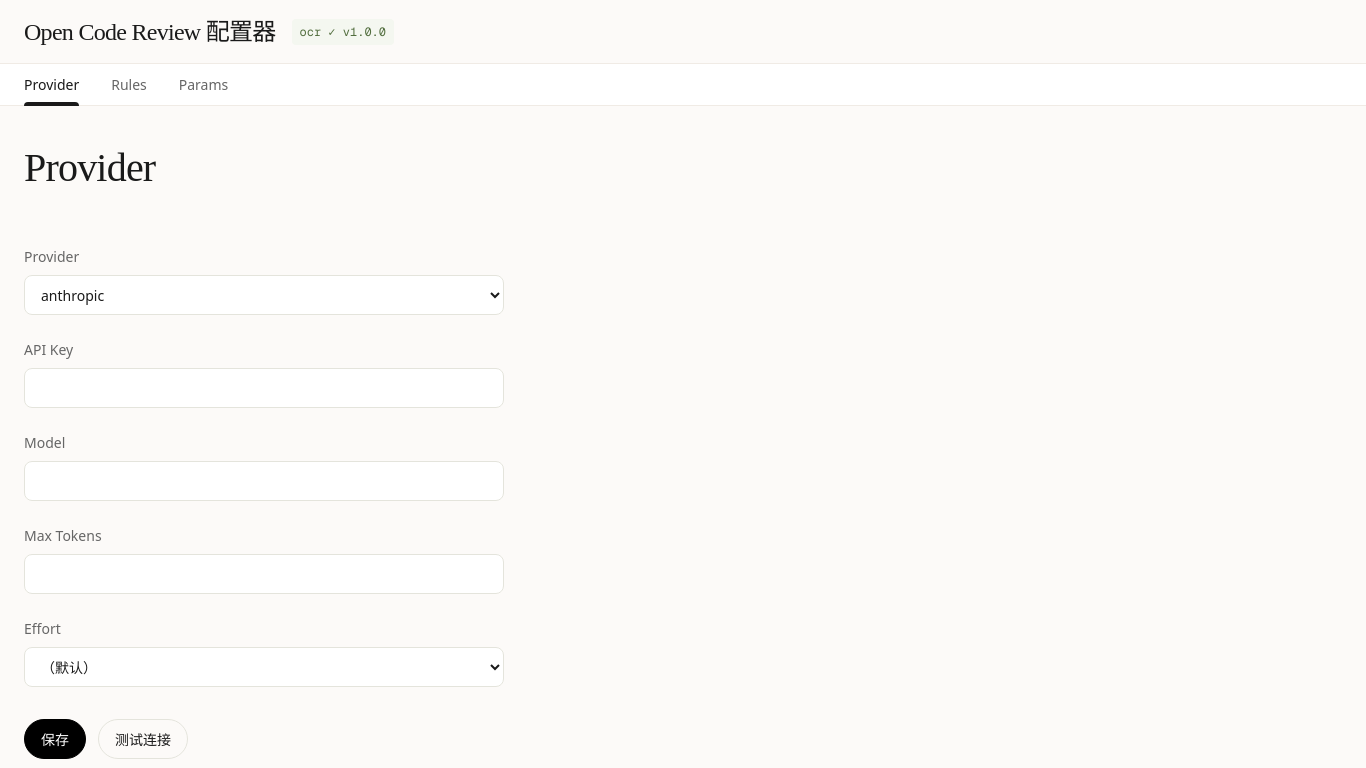
Test: App 全局 Toast 集成 › Provider Tab 保存成功后，Toast 在应用外壳内渲染
Note: 等 get_config 落地，ProviderForm 出现。
Type "gpt-5" into the field labelled "Model" at (264, 481), box [24,461,504,501]
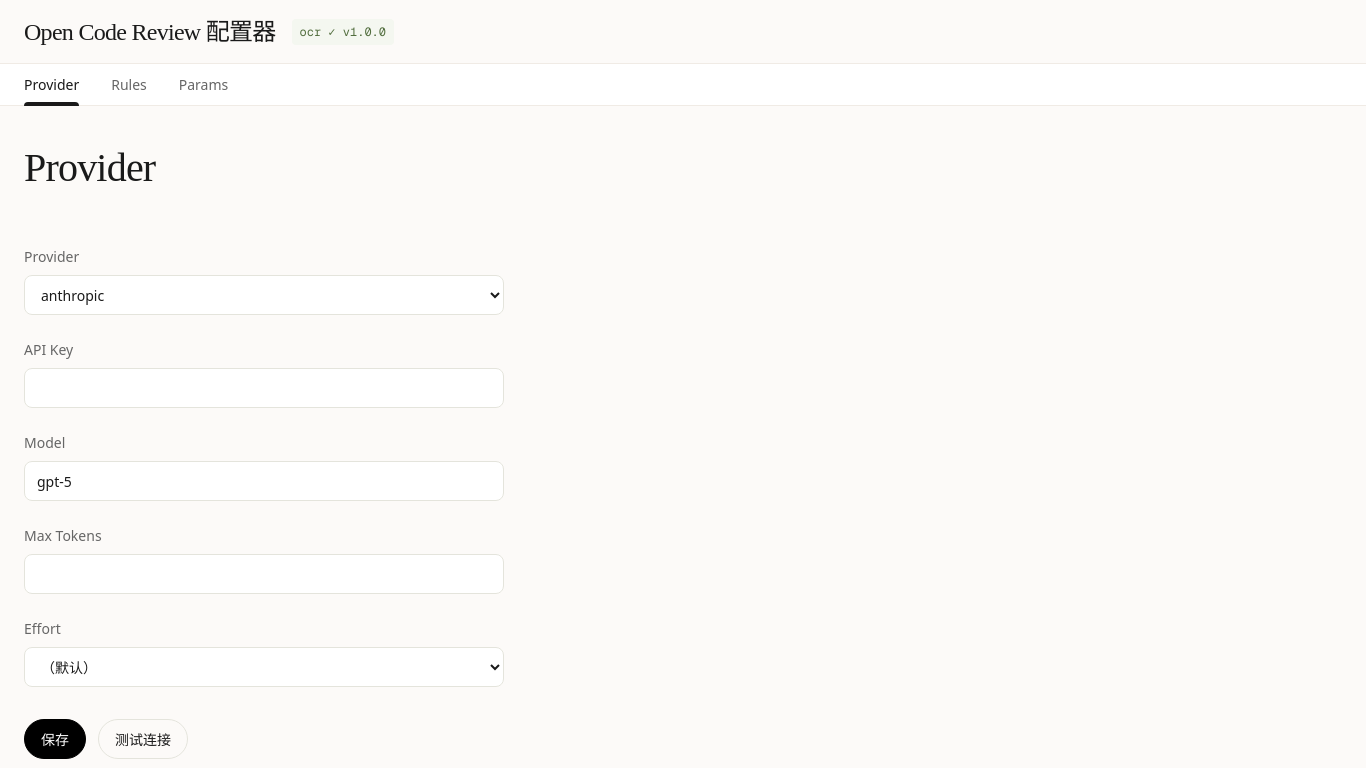
Click the button "保存" at (55, 739), box [24,719,86,759]
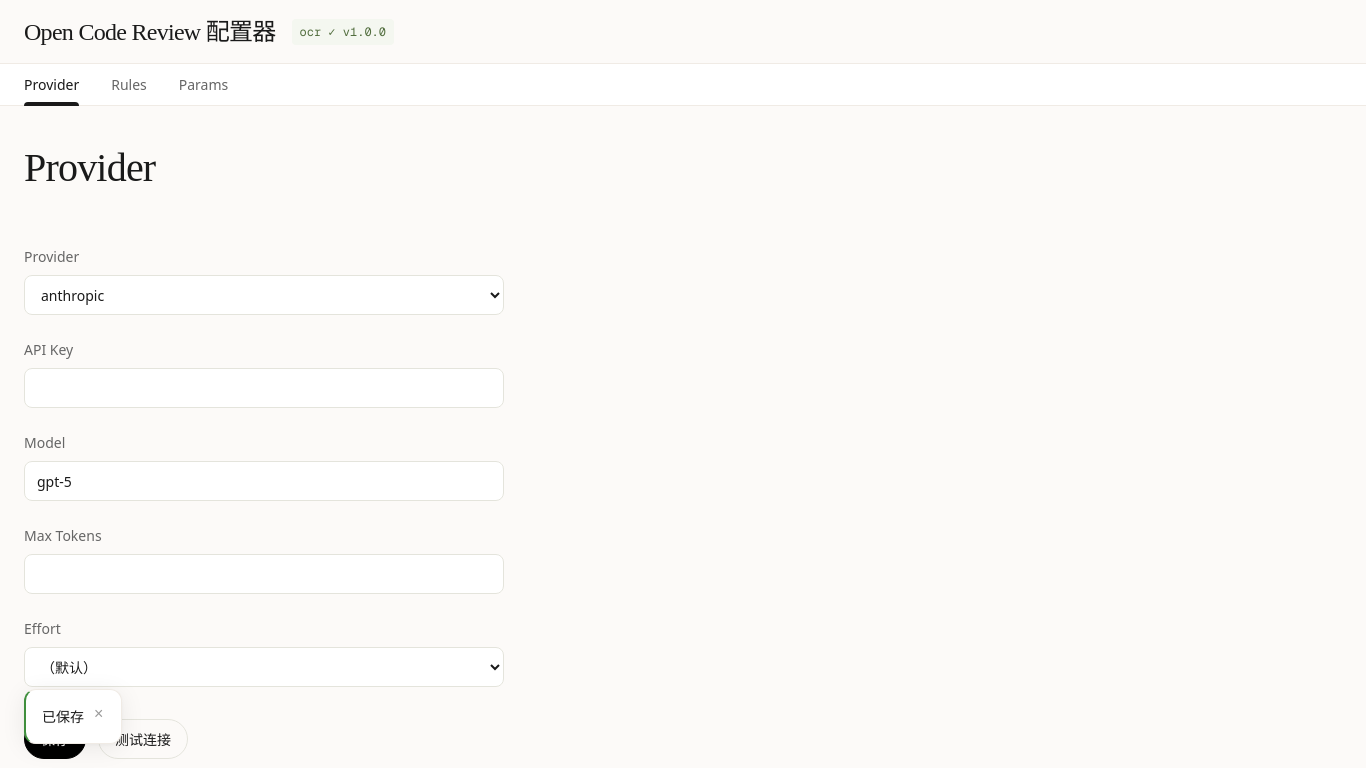
Now the text "已保存" is shown, box [42,706,84,727]
